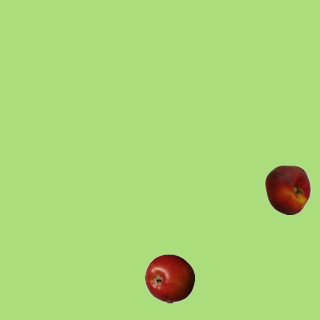Apple Braeburn: (144, 253, 194, 303)
Nectarine Flat: (262, 164, 312, 214)
